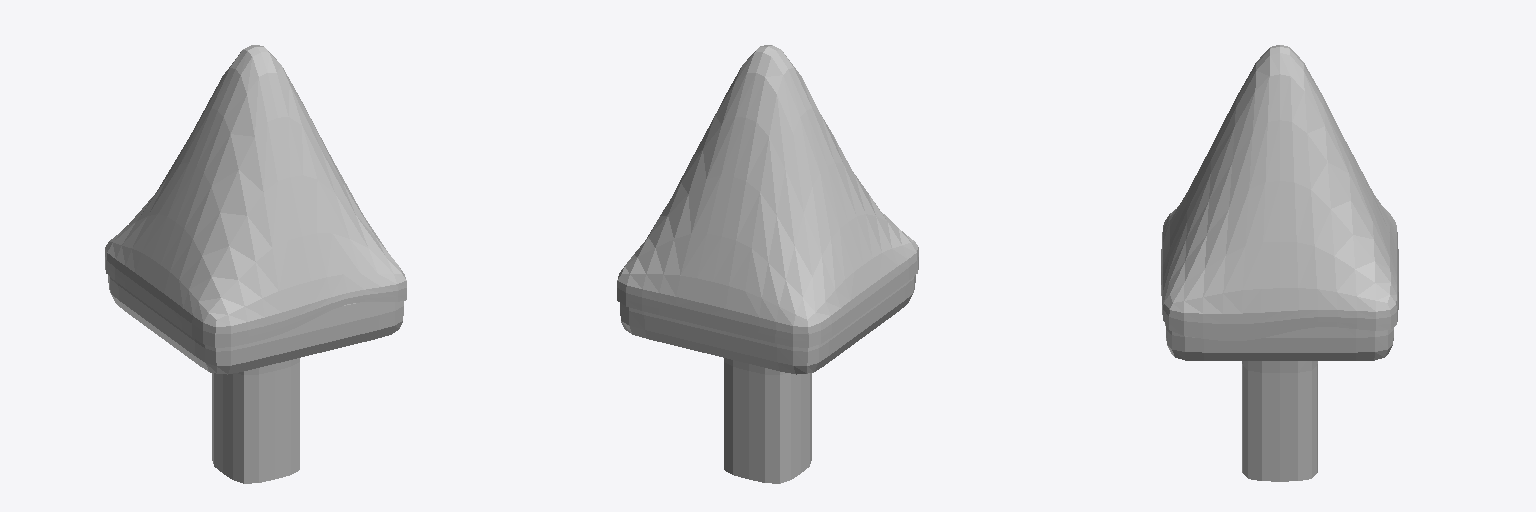
File: snowy tree.obj
The picture shows the model from 3 angles: view 1: azimuth 30°, elevation 25°; view 2: azimuth 150°, elevation 25°; view 3: azimuth 270°, elevation 25°; orthographic projection.
Parts seen in each view (by area): view 1: snowy_tree_Plane.024; view 2: snowy_tree_Plane.024; view 3: snowy_tree_Plane.024.
Boxes of the visible parts, box(x1,y1,x2,y2) form: snowy_tree_Plane.024: box(105, 45, 406, 483); snowy_tree_Plane.024: box(617, 45, 918, 483); snowy_tree_Plane.024: box(1161, 45, 1398, 481).
Bounding box in the file's own units: 3.1 × 6.04 × 3.1.